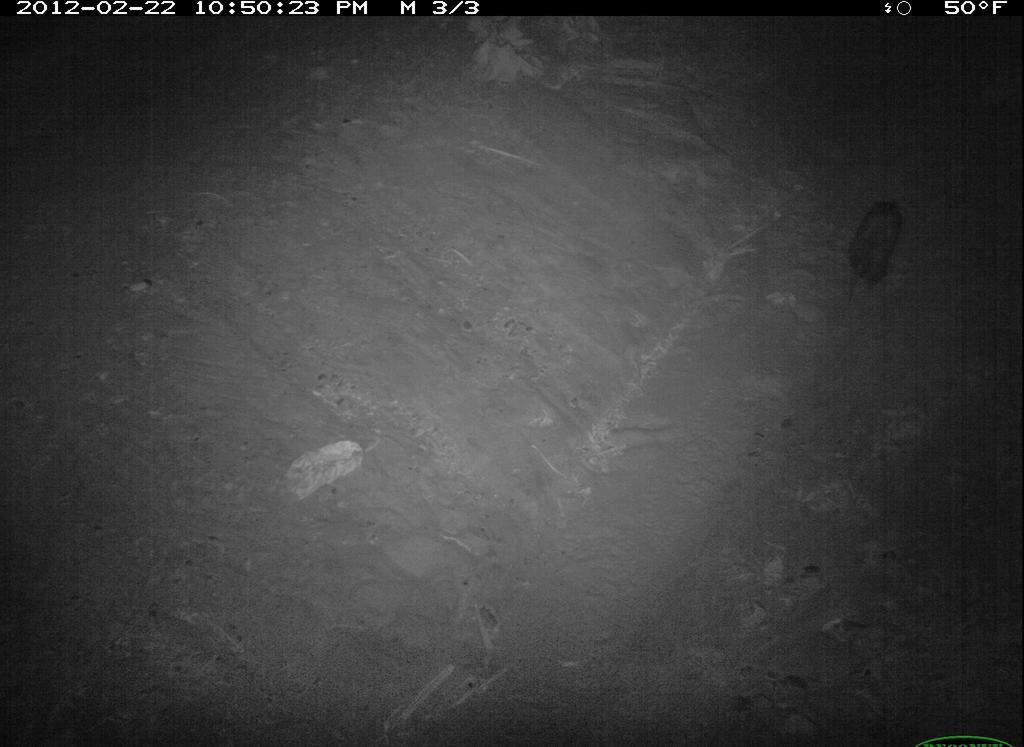opossum: (831, 193, 917, 319)
